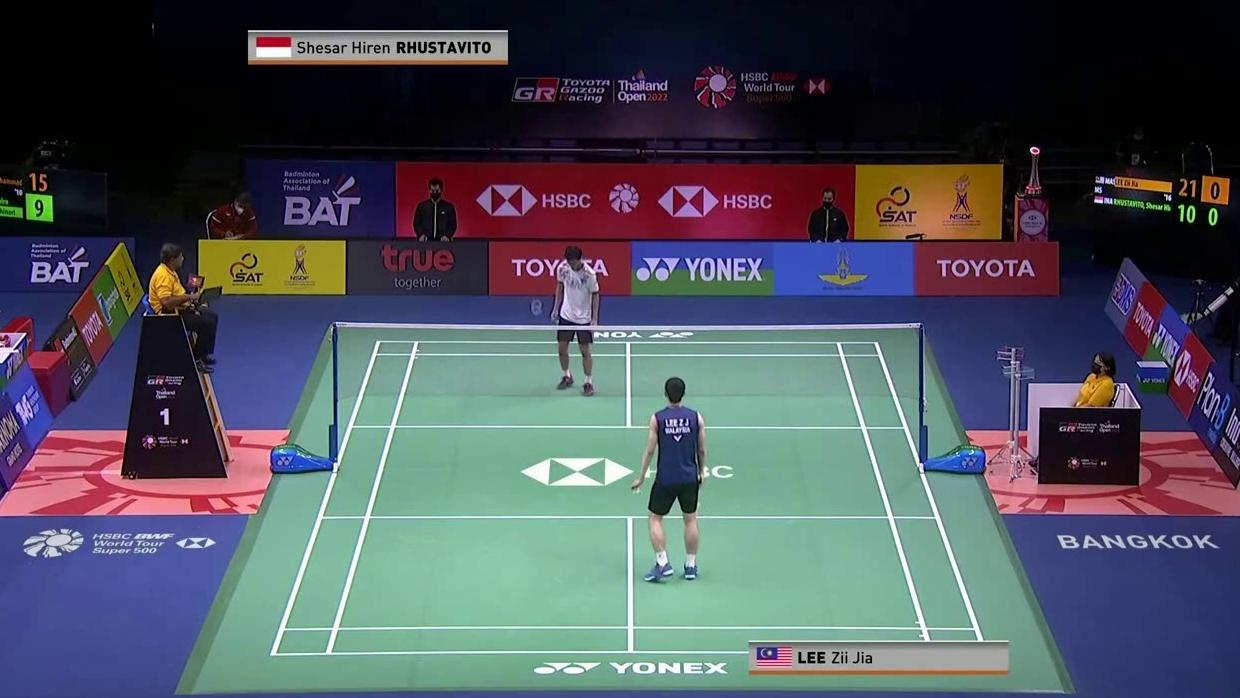racket: (528, 297, 560, 323)
shuttle: (630, 485, 641, 496)
